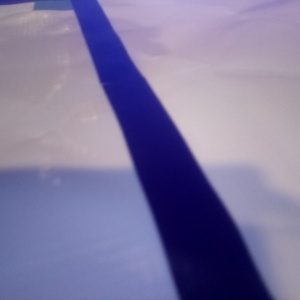top_left: (237, 17, 300, 43)
